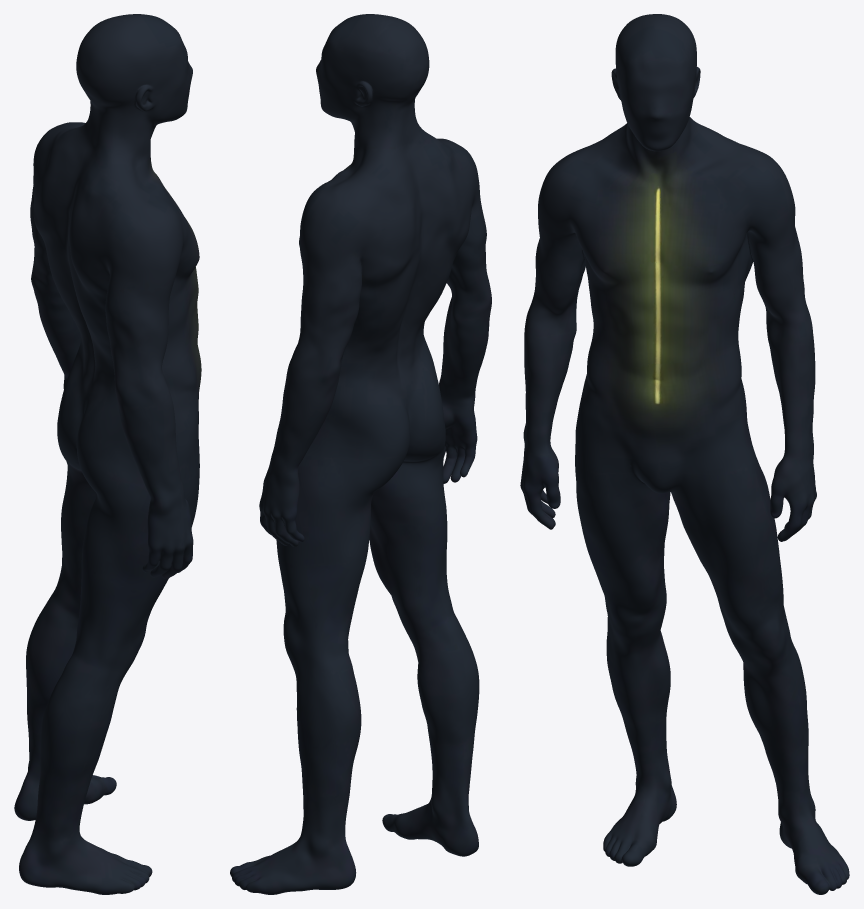
Rendered from figure.glb.
3 views of the same model, side by side, from view 1: azimuth 30°, elevation 25°; view 2: azimuth 150°, elevation 25°; view 3: azimuth 270°, elevation 25° (orthographic). The views are drawn at different scales.
Visible parts, largest first — view 1: tripo_node_323b8ce3-2322-4783-9e52-71c7cc18cceb; view 2: tripo_node_323b8ce3-2322-4783-9e52-71c7cc18cceb; view 3: tripo_node_323b8ce3-2322-4783-9e52-71c7cc18cceb.
Boxes of the visible parts, left/top/right/bottom form: tripo_node_323b8ce3-2322-4783-9e52-71c7cc18cceb: left=14, top=14, right=201, bottom=894; tripo_node_323b8ce3-2322-4783-9e52-71c7cc18cceb: left=230, top=14, right=491, bottom=894; tripo_node_323b8ce3-2322-4783-9e52-71c7cc18cceb: left=520, top=14, right=849, bottom=894.
Size of the model in its own units: 0.3878 by 1.8 by 0.6338.
1 material, 1 textured.
